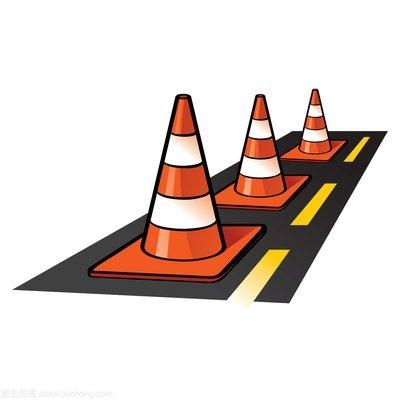cone_barrel: (128, 96, 239, 264), (229, 95, 292, 199), (293, 87, 335, 158)
